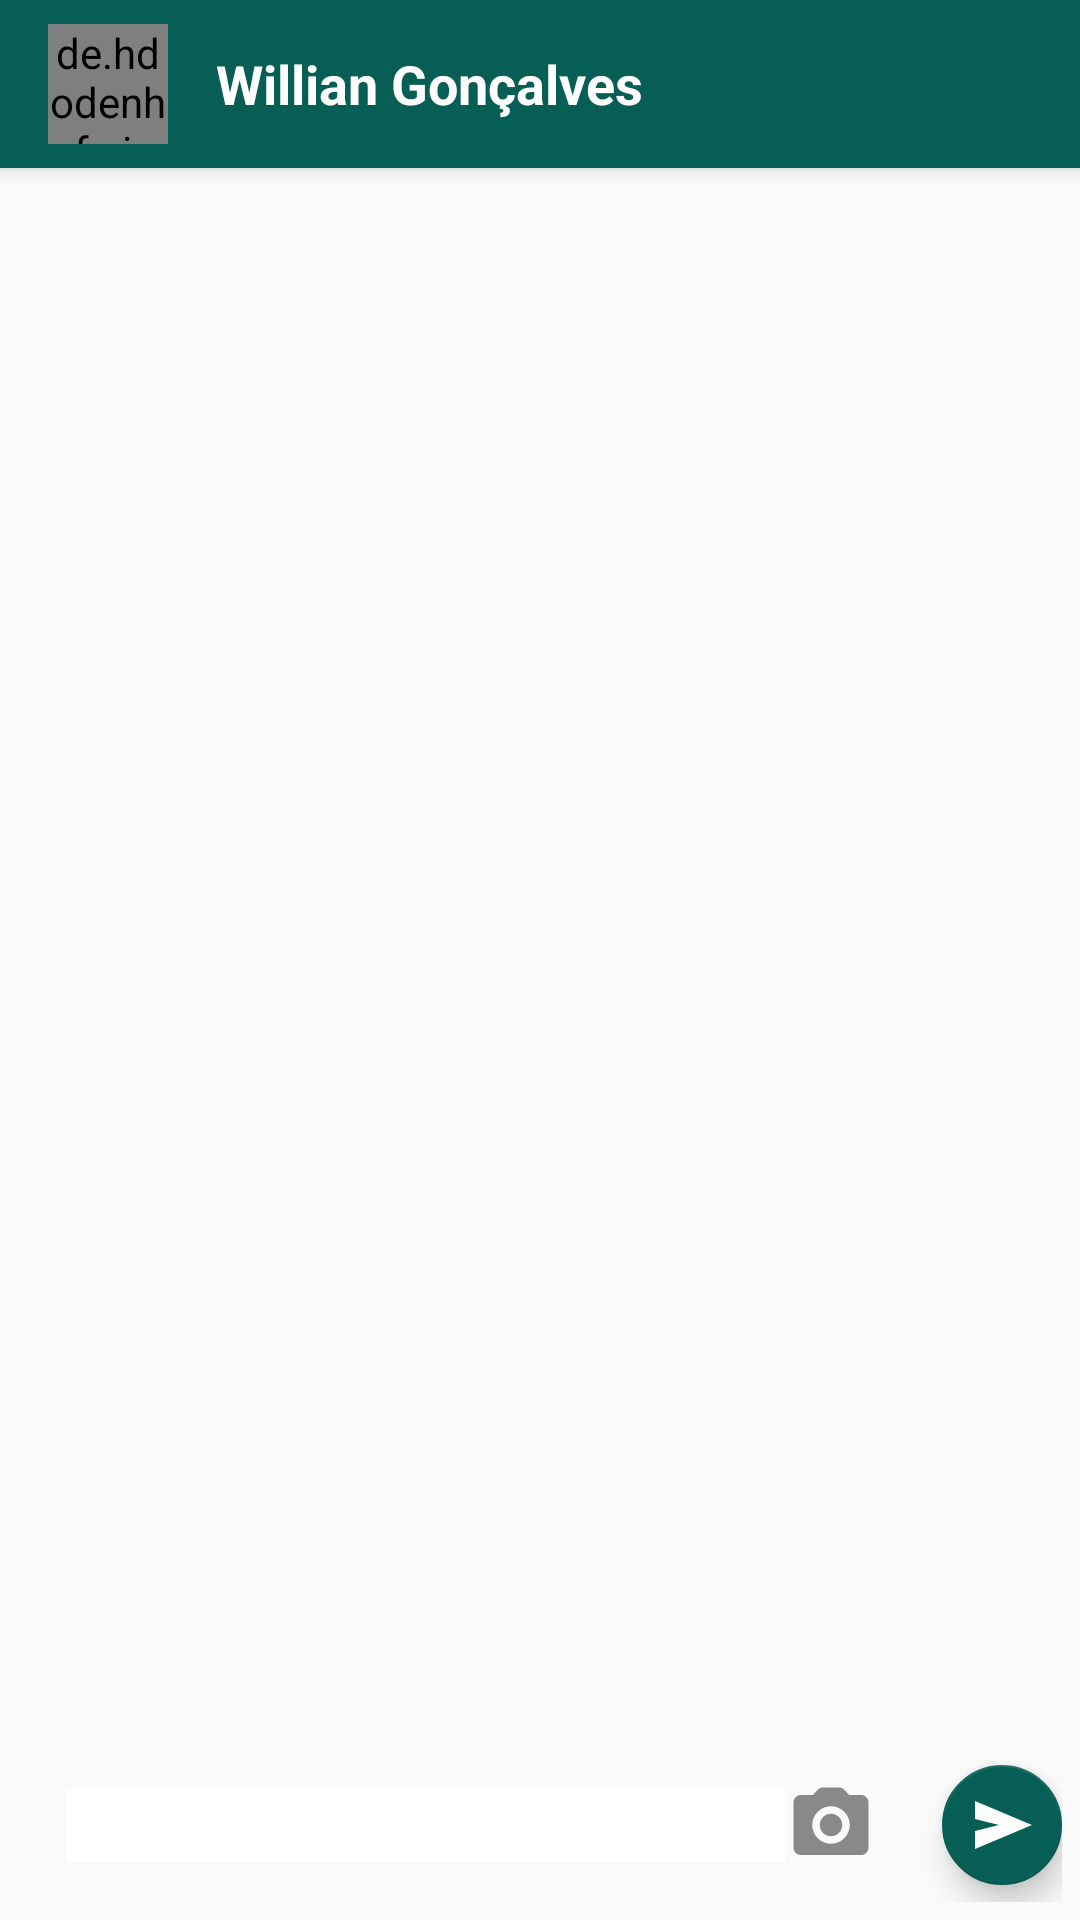

Screen size 1080px x 1920px. Icon name, then its center in pixels as [x,y]:
camera: [831,1821]
send: [1002,1825]
